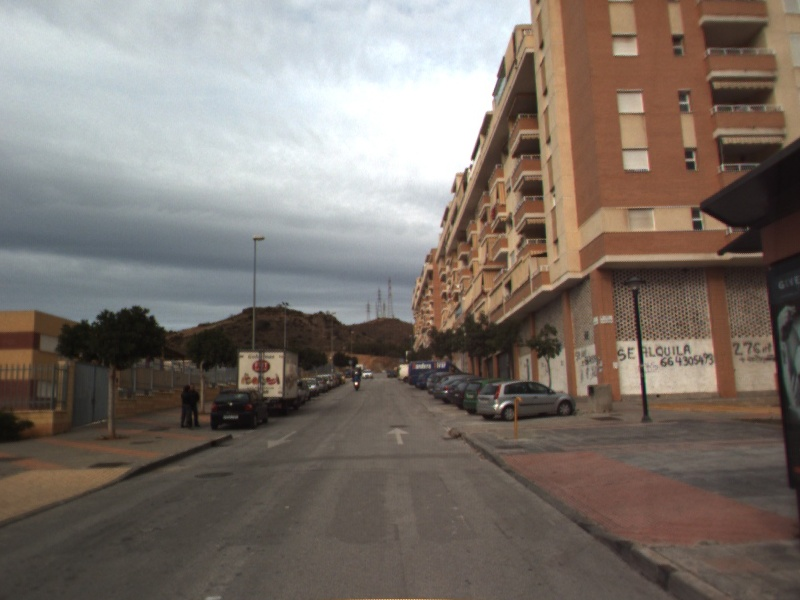STRAIGHT: (385, 425, 411, 446)
